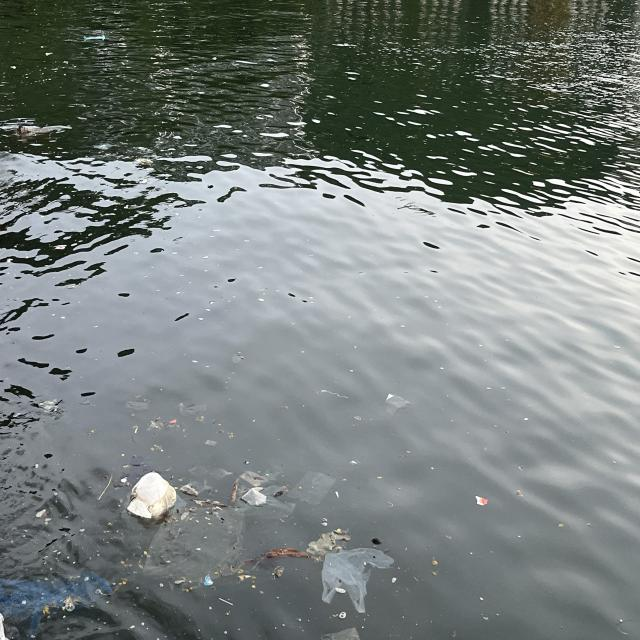foam: (126, 470, 177, 518)
plastic bottle: (144, 504, 244, 578), (321, 548, 394, 616), (232, 485, 294, 518), (287, 472, 337, 504), (308, 526, 351, 561), (238, 467, 282, 486), (386, 392, 410, 414), (191, 465, 230, 477), (178, 481, 212, 494), (178, 403, 206, 415), (39, 400, 62, 414), (127, 400, 150, 412)
unknow: (476, 496, 489, 506)
